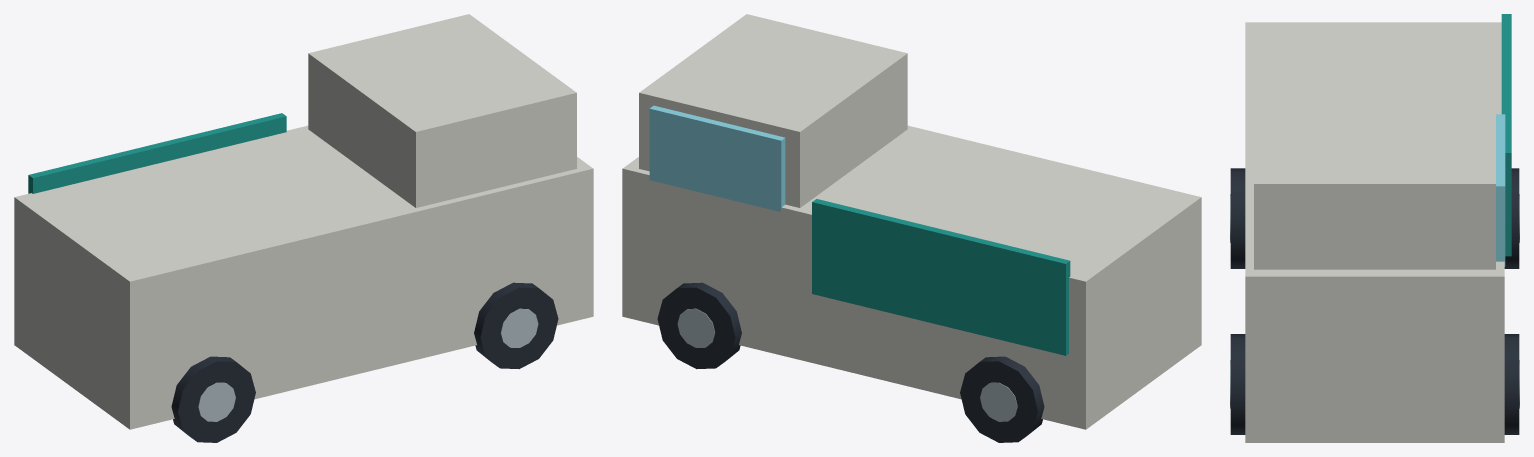
3 views of the same model, side by side, from view 1: azimuth 30°, elevation 25°; view 2: azimuth 150°, elevation 25°; view 3: azimuth 270°, elevation 25° (orthographic). The views are drawn at different scales.
Visible parts, largest first — view 1: van-body, van-cab, wheel (×2), cargo-mark, hub (×2); view 2: van-body, van-cab, cargo-mark, van-windshield, wheel (×2), hub (×2); view 3: van-body, van-cab, wheel (×4), cargo-mark, van-windshield.
Boxes of the visible parts, <box> form: van-body: <box>14,125,593,429</box>; van-cab: <box>308,14,576,207</box>; wheel (×2): <box>171,282,558,442</box>; cargo-mark: <box>28,113,286,193</box>; hub (×2): <box>198,308,538,421</box>; van-body: <box>622,125,1201,429</box>; van-cab: <box>639,14,907,207</box>; cargo-mark: <box>812,199,1070,355</box>; van-windshield: <box>649,105,785,211</box>; wheel (×2): <box>657,282,1044,442</box>; hub (×2): <box>677,308,1017,421</box>; van-body: <box>1245,22,1504,442</box>; van-cab: <box>1254,96,1495,269</box>; wheel (×4): <box>1230,168,1519,434</box>; cargo-mark: <box>1501,14,1511,256</box>; van-windshield: <box>1496,114,1505,266</box>.
Size of the model in its own units: 4.75 by 2.47 by 2.29.
